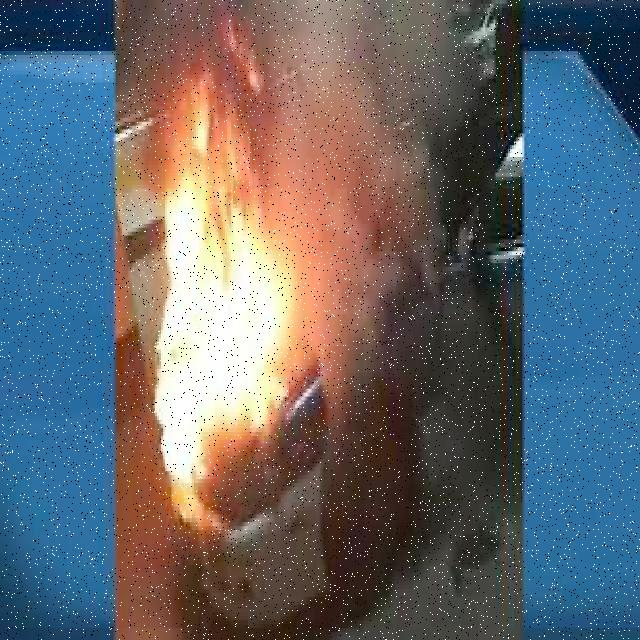fire: (155, 98, 312, 489)
